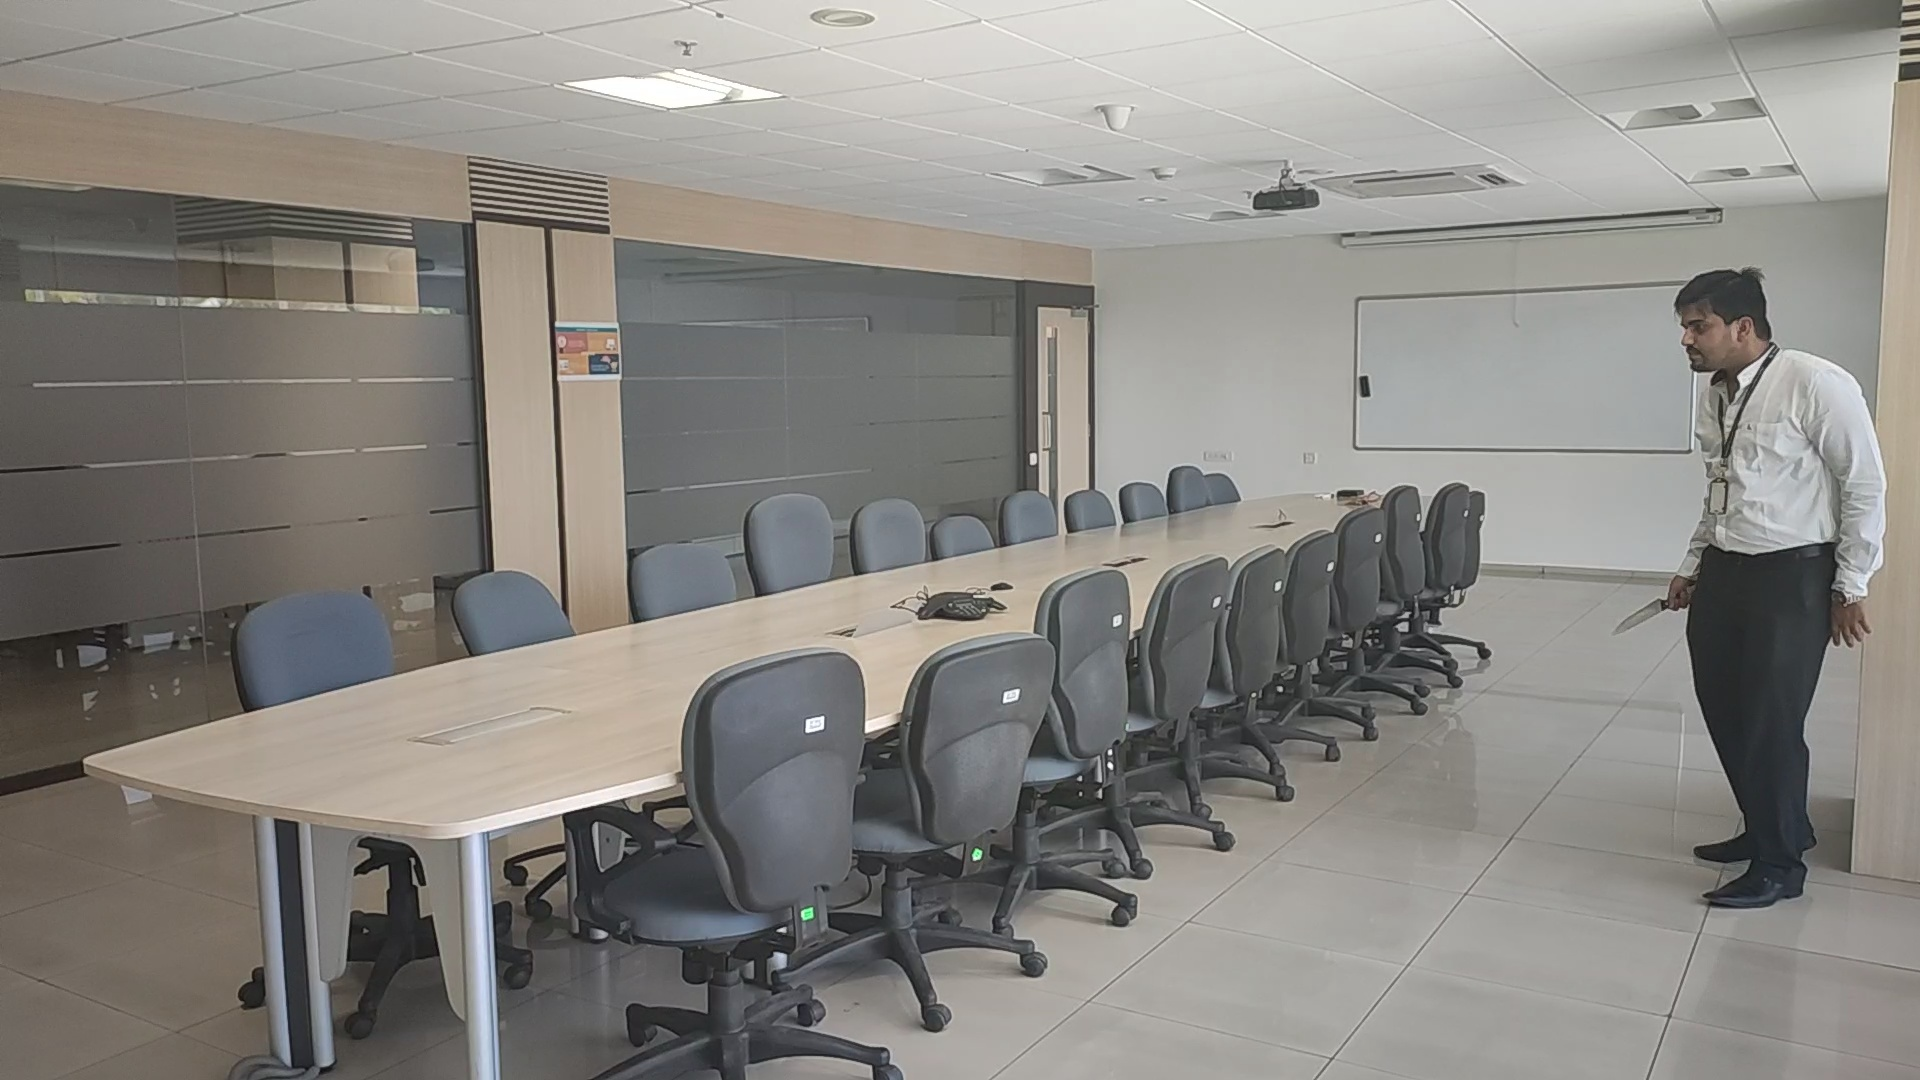knife: (1611, 596, 1669, 640)
